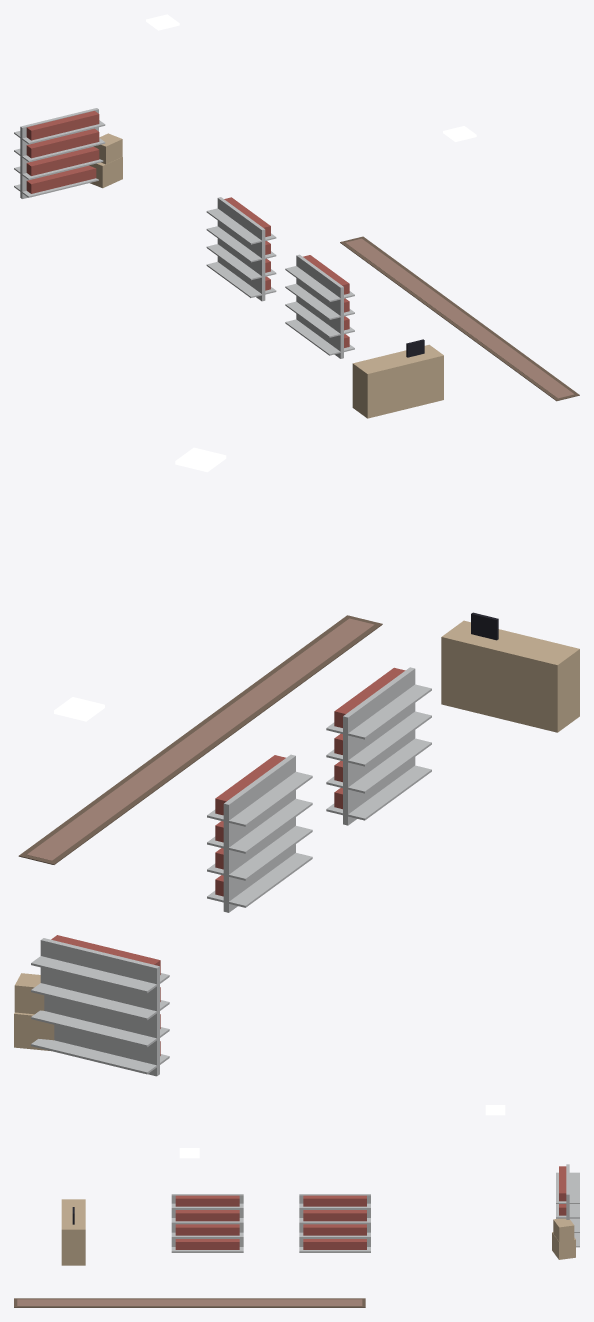
Rendered from fine-s0.glb.
3 views of the same model, one above another, from view 1: azimuth 30°, elevation 25°; view 2: azimuth 150°, elevation 25°; view 3: azimuth 270°, elevation 25° (orthographic). The views are drawn at different scales.
Parts seen in each view (by area): view 1: shelving.000, shop-counter.000, soft-s0, shelf.000, shelf.001, cardboard-box.000; view 2: shelving.000, shop-counter.000, soft-s0, shelf.001, shelf.000, cardboard-box.000, ceiling-lamp.000, ceiling-lamp.001; view 3: shelf.001, shelf.000, soft-s0, shop-counter.000, shelving.000, cardboard-box.000.
Boxes of the visible parts, bbox=[...] form: shelving.000: bbox=[14, 108, 105, 198]; shop-counter.000: bbox=[352, 339, 443, 418]; soft-s0: bbox=[340, 236, 579, 401]; shelf.000: bbox=[206, 197, 276, 301]; shelf.001: bbox=[285, 254, 354, 358]; cardboard-box.000: bbox=[89, 133, 122, 188]; shelving.000: bbox=[31, 935, 169, 1076]; shop-counter.000: bbox=[441, 612, 579, 732]; soft-s0: bbox=[18, 615, 382, 864]; shelf.001: bbox=[326, 667, 431, 825]; shelf.000: bbox=[207, 754, 312, 912]; cardboard-box.000: bbox=[14, 973, 54, 1051]; ceiling-lamp.000: bbox=[175, 447, 226, 472]; ceiling-lamp.001: bbox=[54, 697, 104, 721]; shelf.001: bbox=[171, 1194, 243, 1252]; shelf.000: bbox=[299, 1194, 370, 1252]; soft-s0: bbox=[14, 1298, 365, 1307]; shop-counter.000: bbox=[61, 1199, 85, 1265]; shelving.000: bbox=[556, 1164, 579, 1247]; cardboard-box.000: bbox=[552, 1218, 575, 1259].
Bounding box in the file's own units: 5.1 × 4.18 × 14.2.
